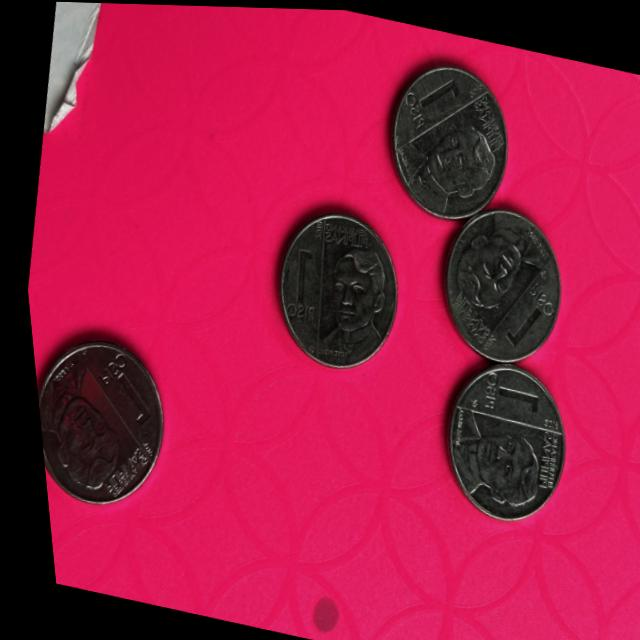1_New_Front: (485, 271, 559, 358), (271, 238, 330, 329), (467, 363, 549, 427), (396, 64, 465, 130)
